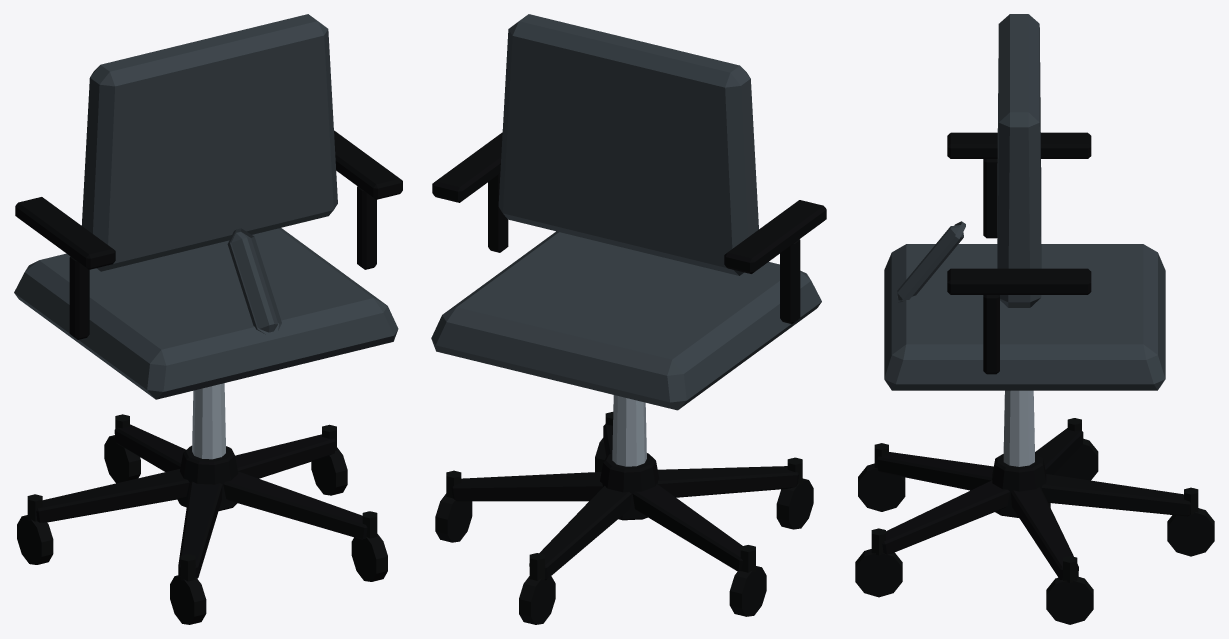
File: INTERIOR_05_OfficeChair.obj
The picture shows the model from 3 angles, left to right: view 1: azimuth 30°, elevation 25°; view 2: azimuth 150°, elevation 25°; view 3: azimuth 270°, elevation 25°; orthographic projection. The views are drawn at different scales.
Visible parts, largest first — view 1: INTERIOR_05_OfficeChair_Backrest, INTERIOR_05_OfficeChair_Seat, INTERIOR_05_OfficeChair_Base, INTERIOR_05_OfficeChair_Arms, INTERIOR_05_OfficeChair_Casters, INTERIOR_05_OfficeChair_Column; view 2: INTERIOR_05_OfficeChair_Backrest, INTERIOR_05_OfficeChair_Seat, INTERIOR_05_OfficeChair_Base, INTERIOR_05_OfficeChair_Arms, INTERIOR_05_OfficeChair_Casters, INTERIOR_05_OfficeChair_Column; view 3: INTERIOR_05_OfficeChair_Seat, INTERIOR_05_OfficeChair_Base, INTERIOR_05_OfficeChair_Backrest, INTERIOR_05_OfficeChair_Casters, INTERIOR_05_OfficeChair_Arms, INTERIOR_05_OfficeChair_Column.
Boxes of the visible parts, left/top/right/bottom form: INTERIOR_05_OfficeChair_Backrest: left=81, top=14, right=337, bottom=334; INTERIOR_05_OfficeChair_Seat: left=14, top=228, right=398, bottom=399; INTERIOR_05_OfficeChair_Base: left=36, top=424, right=367, bottom=578; INTERIOR_05_OfficeChair_Arms: left=15, top=130, right=402, bottom=339; INTERIOR_05_OfficeChair_Casters: left=17, top=414, right=387, bottom=624; INTERIOR_05_OfficeChair_Column: left=192, top=383, right=225, bottom=459; INTERIOR_05_OfficeChair_Backrest: left=498, top=14, right=758, bottom=275; INTERIOR_05_OfficeChair_Seat: left=431, top=231, right=821, bottom=410; INTERIOR_05_OfficeChair_Base: left=451, top=424, right=798, bottom=580; INTERIOR_05_OfficeChair_Arms: left=432, top=132, right=826, bottom=323; INTERIOR_05_OfficeChair_Casters: left=435, top=412, right=813, bottom=624; INTERIOR_05_OfficeChair_Column: left=612, top=395, right=646, bottom=466; INTERIOR_05_OfficeChair_Seat: left=884, top=244, right=1165, bottom=390; INTERIOR_05_OfficeChair_Base: left=876, top=428, right=1190, bottom=579; INTERIOR_05_OfficeChair_Backrest: left=897, top=14, right=1041, bottom=307; INTERIOR_05_OfficeChair_Casters: left=855, top=418, right=1214, bottom=624; INTERIOR_05_OfficeChair_Arms: left=947, top=132, right=1091, bottom=374; INTERIOR_05_OfficeChair_Column: left=1003, top=390, right=1034, bottom=466.
Bounding box in the file's own units: 0.64 × 0.975 × 0.6489.
